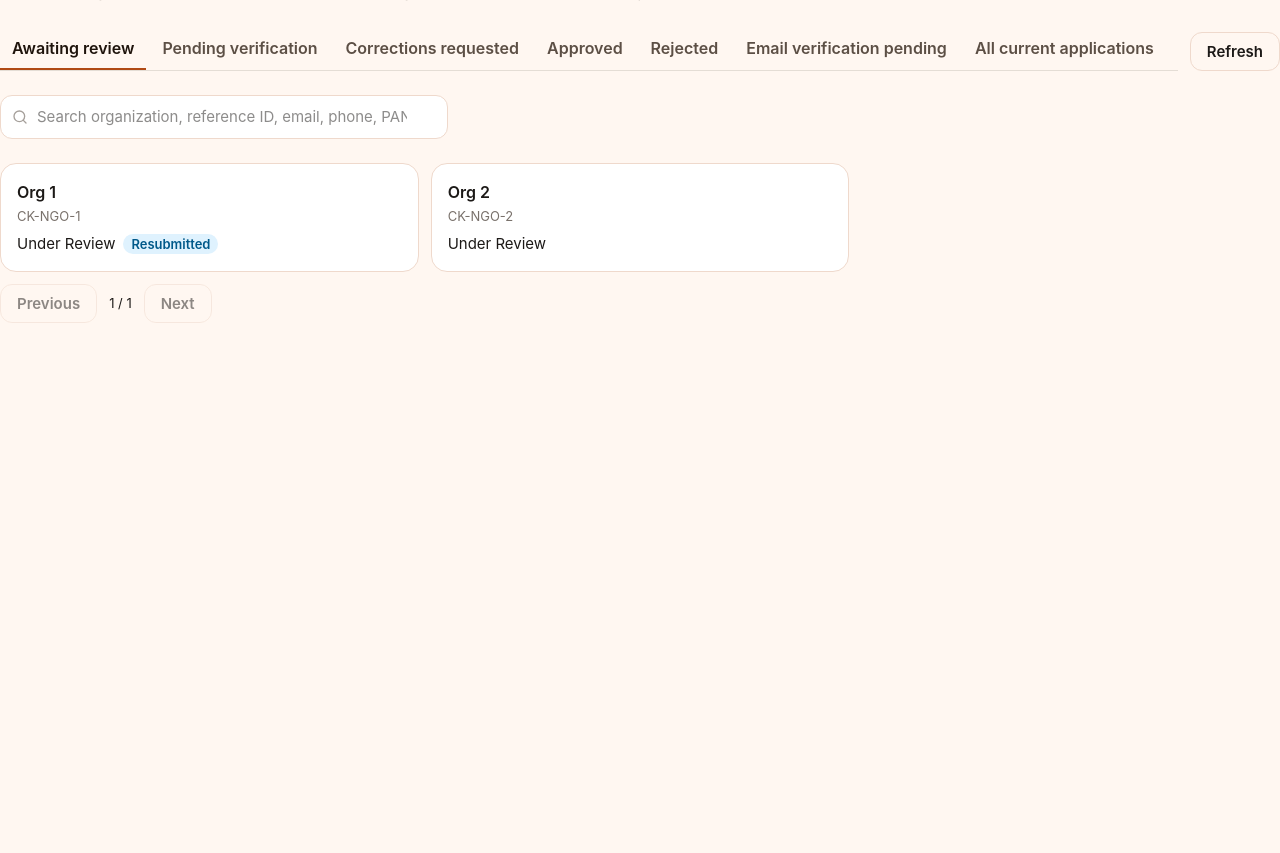
Test: NGO Applications: tabs, search and layout › marks a resubmitted application and shows earlier notes beside new values and the round history
The width and height of the screenshot is (1280, 853).
Expected: the text "Org 1" is shown, [17,182,56,202]
Expected: the number of elements with test id "resubmitted-badge" is 1, [123,234,218,254]
Click the button "Org 1".
click(37, 192)  # box [0,163,419,272]
(page scrolled)
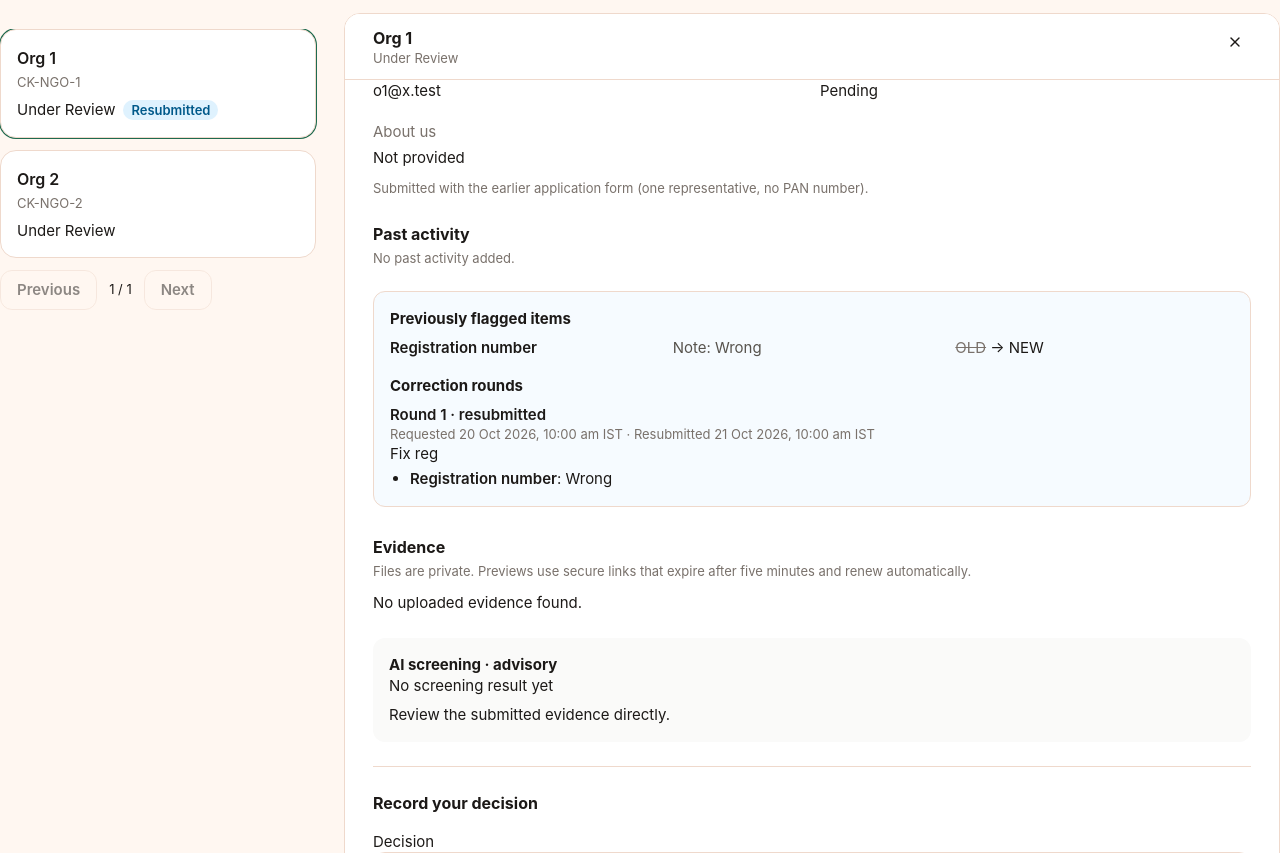
Expected: the element with test id "resubmission-section" shows "Previously flagged items", [390,309,571,328]
Expected: the element with test id "resubmission-section" shows "Note: Wrong", [373,291,1251,507]
Expected: the element with test id "resubmission-section" shows "OLD", [955,338,986,357]
